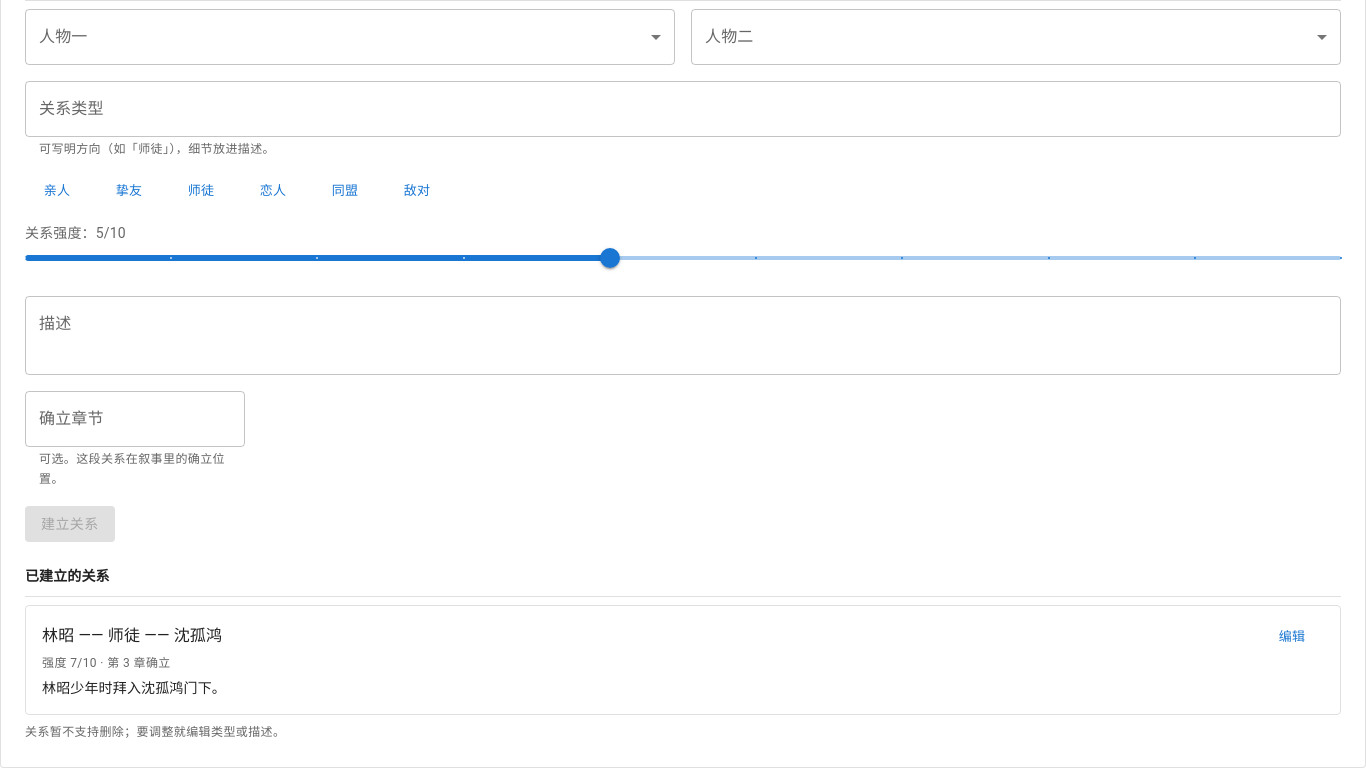
Scenario: 人物关系区 › MCP 返回 success=false 诚实展示原因，不关窗
(page scrolled)
Click the button with aria-label "编辑林昭与沈孤鸿的关系". click: point(1292, 638)
box: [1260, 622, 1324, 653]
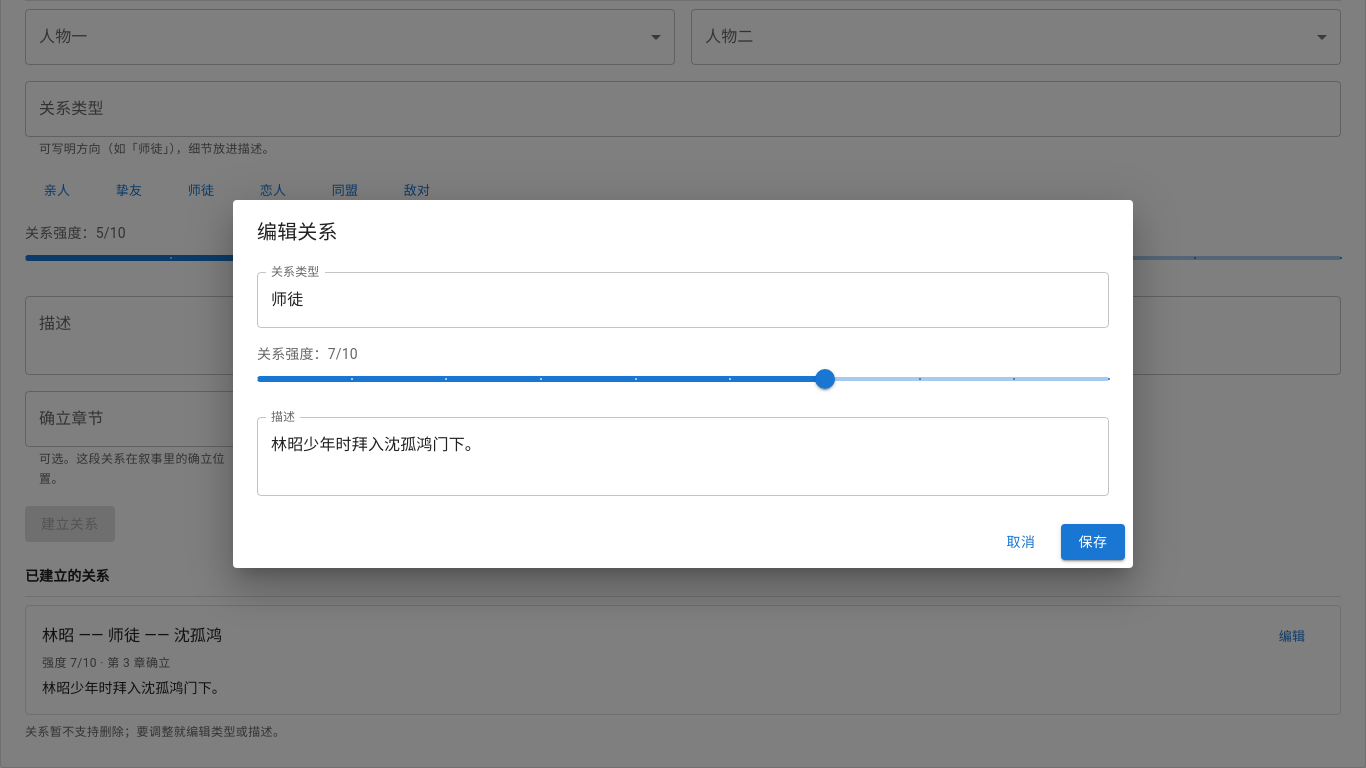
Click the button "保存". click: point(1093, 542)
box: [1061, 524, 1125, 560]
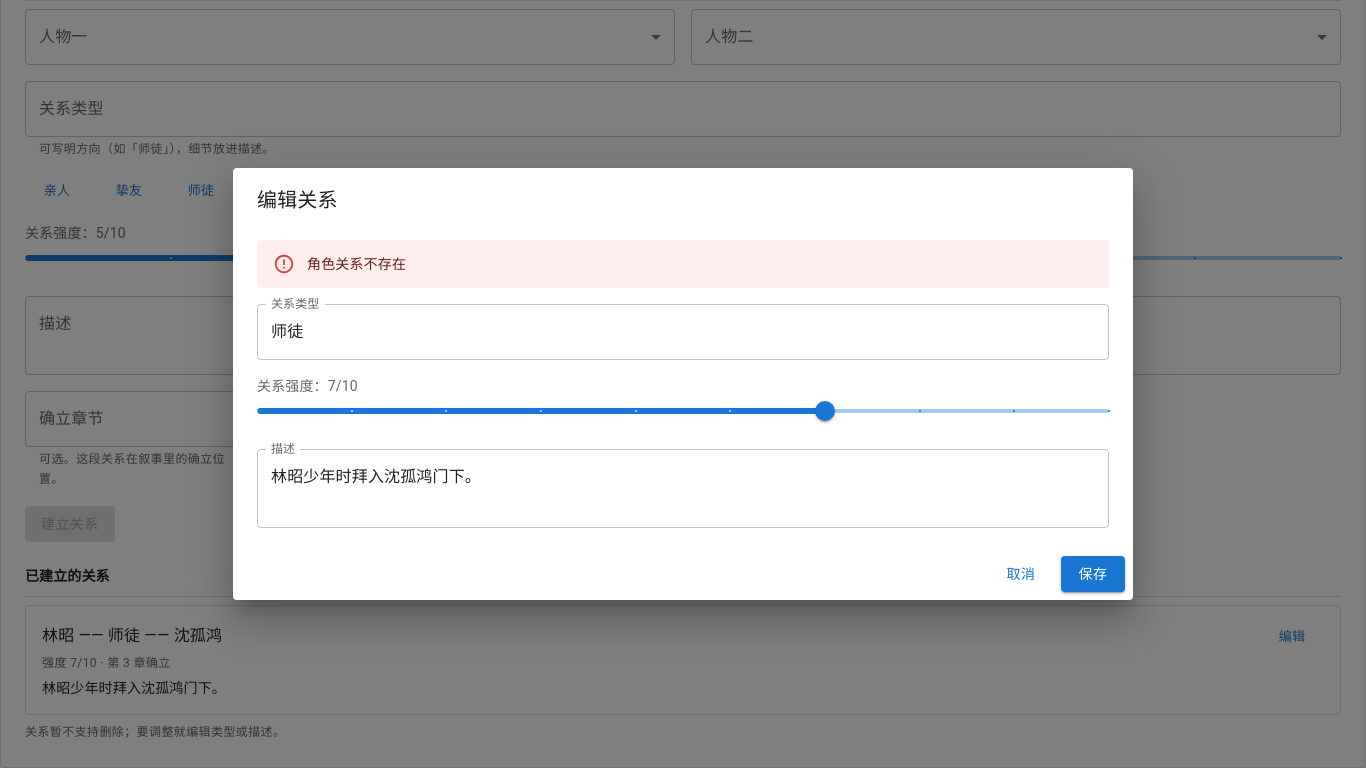
Expected: the dialog is shown, [233, 168, 1133, 600]
Expected: the text "角色关系不存在" is shown, [307, 256, 406, 272]
